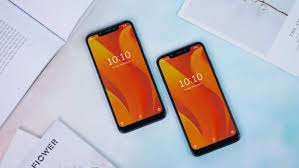vsmart: (82, 17, 169, 136), (156, 37, 243, 156)
